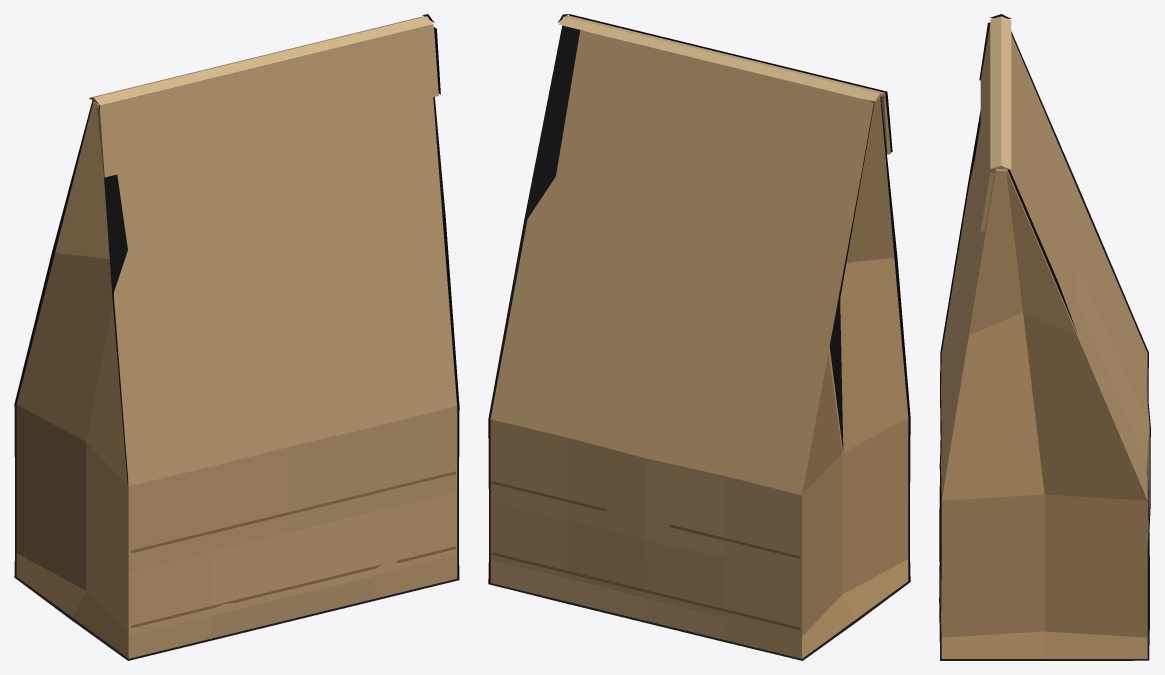
File: Kese_genis.fbx
3 renders of one model, left to right at view 1: azimuth 30°, elevation 25°; view 2: azimuth 150°, elevation 25°; view 3: azimuth 270°, elevation 25°, orthographic. The views are drawn at different scales.
Parts seen in each view (by area): view 1: Kese_genis; view 2: Kese_genis; view 3: Kese_genis.
Part boxes in pixels (x1=…): Kese_genis: x1=14, y1=14, x2=459, y2=660; Kese_genis: x1=488, y1=14, x2=910, y2=660; Kese_genis: x1=939, y1=14, x2=1150, y2=660.
Size of the model in its own units: 0.2259 by 0.3465 by 0.1337.
